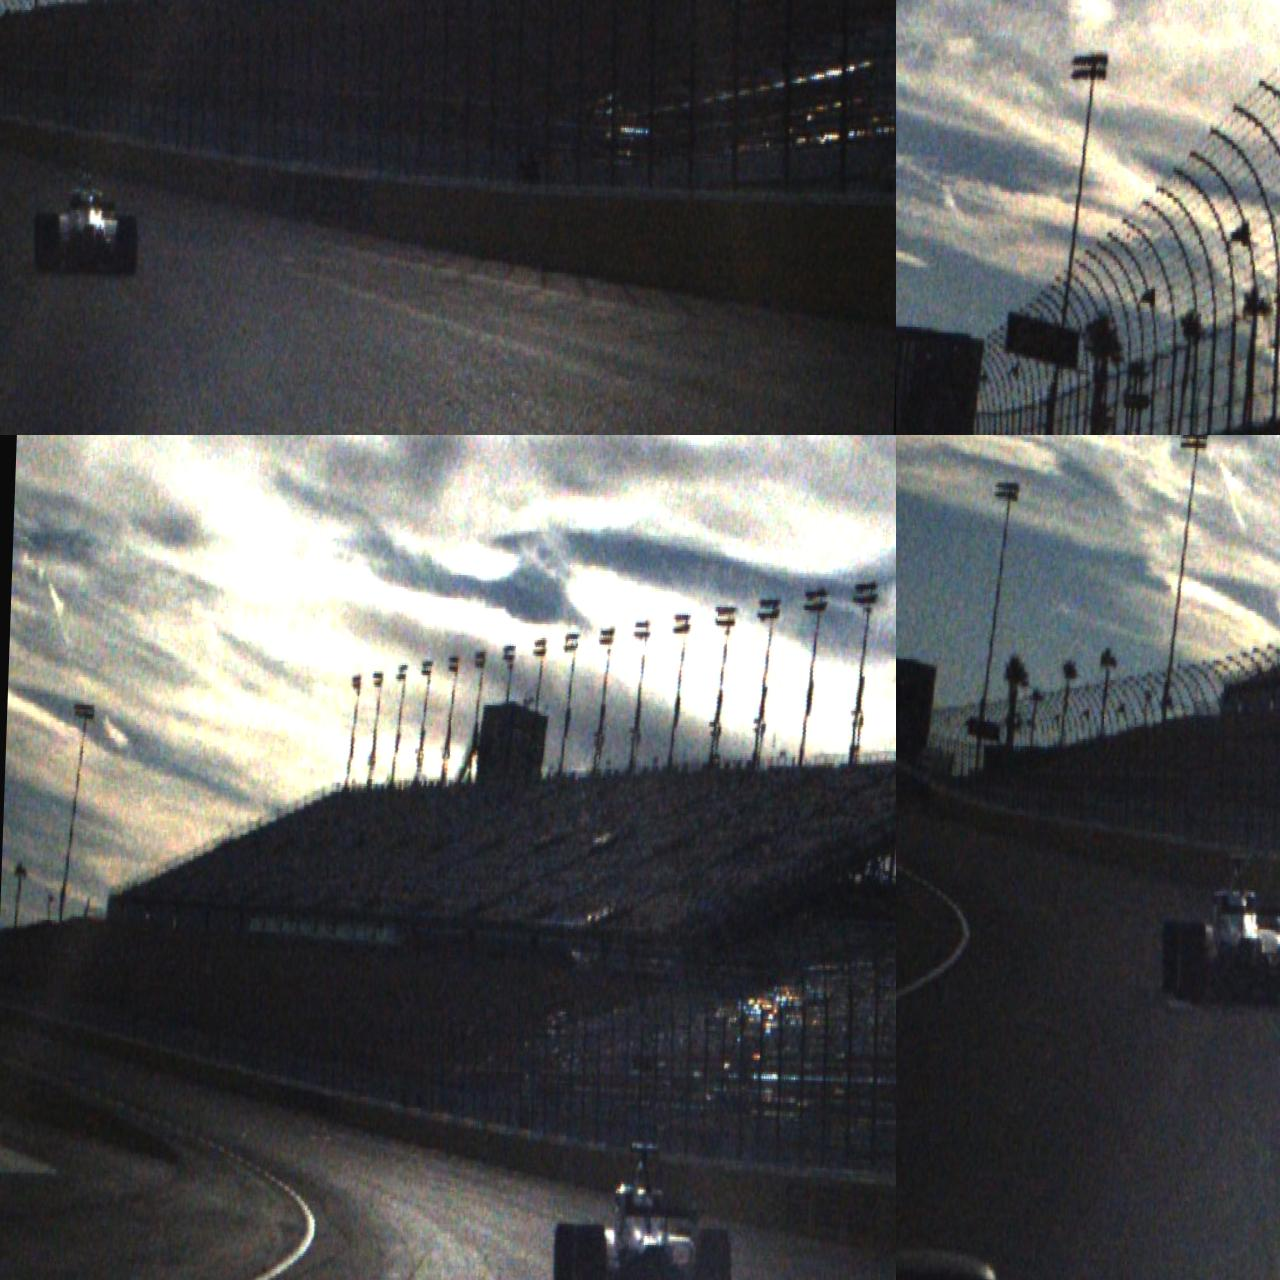AV: (551, 1138, 736, 1280), (1158, 849, 1280, 1010), (33, 164, 141, 278)
Wheel: (1173, 922, 1204, 1001), (693, 1227, 731, 1280), (571, 1224, 605, 1280), (1159, 919, 1183, 994), (33, 211, 60, 273), (551, 1223, 578, 1280), (116, 216, 138, 277)
